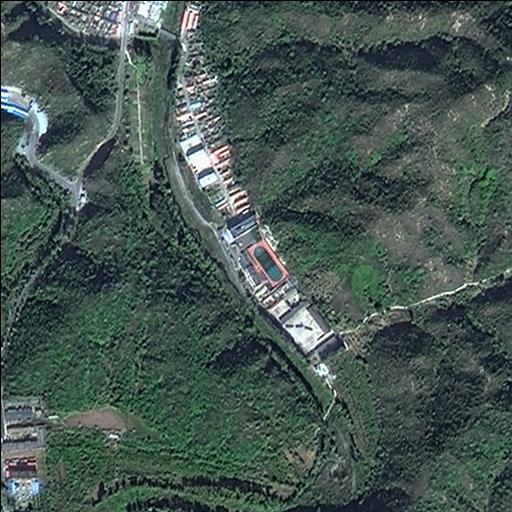school: (212, 210, 290, 304)
